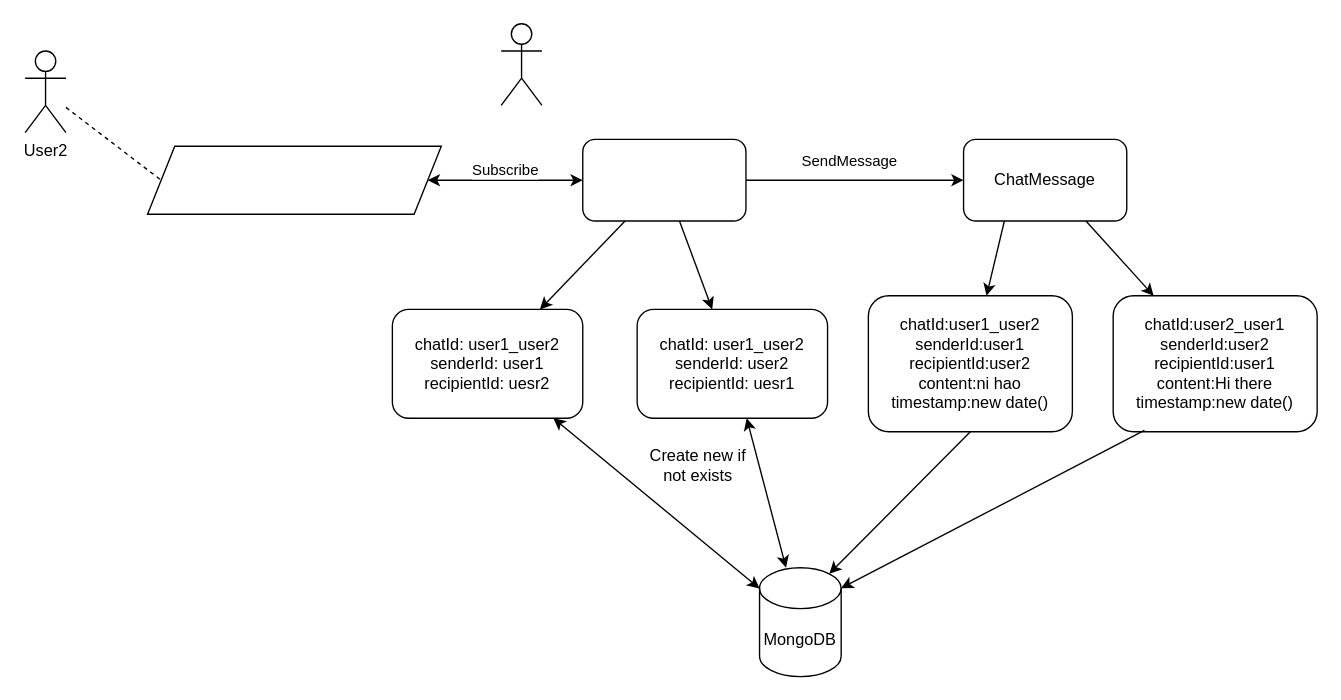
This 1341x700 diagram has some shape labels left out. Each missing label, with the centre of its shape:
"${nickName}/queue/mesages" belongs at point (293, 179).
"ChatRoom" belongs at point (663, 179).
"User1" belongs at point (521, 63).
